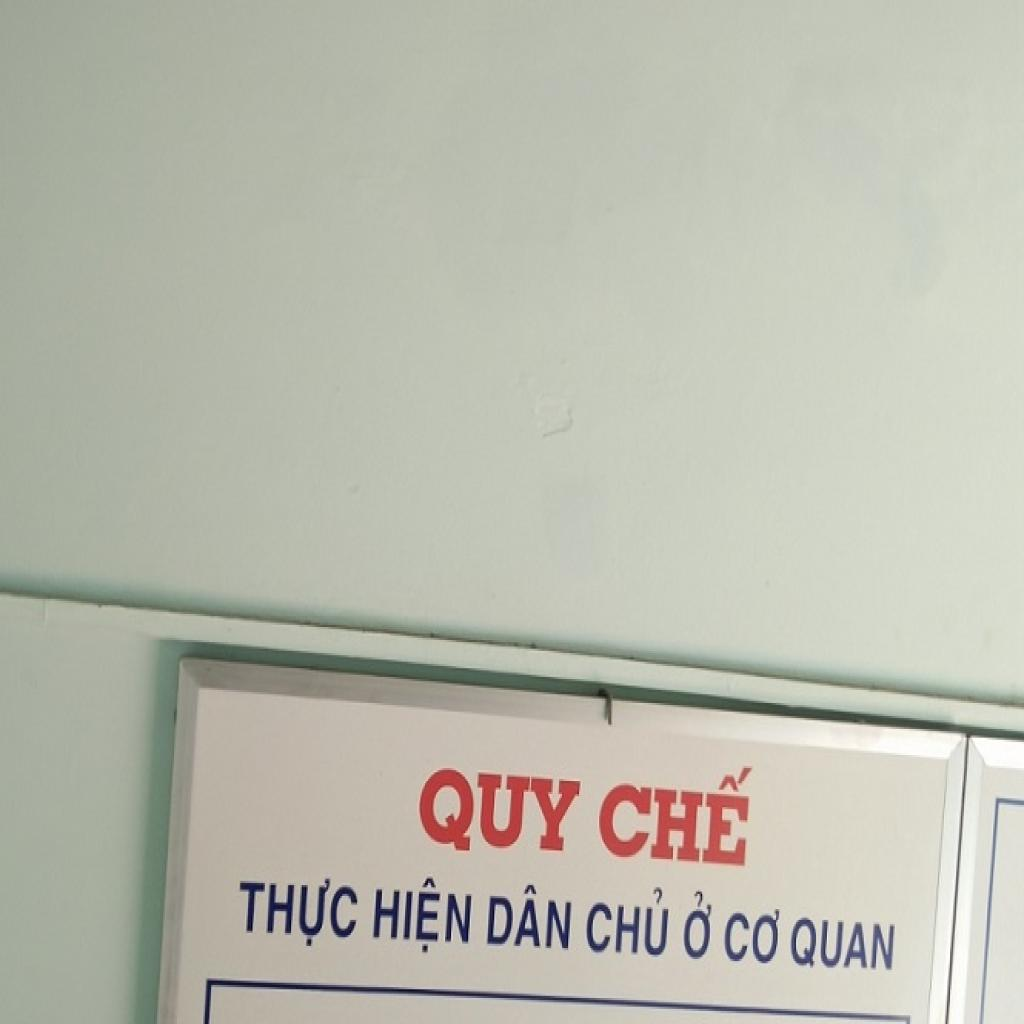text: (594, 753, 758, 870), (417, 766, 582, 852), (234, 874, 360, 955), (371, 868, 474, 959), (585, 879, 673, 963), (486, 880, 576, 954), (724, 905, 782, 965), (681, 888, 719, 964)
